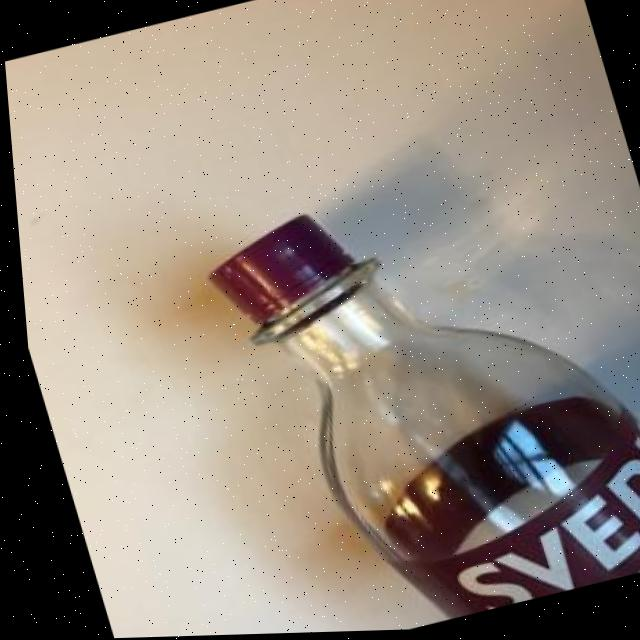glass: (177, 130, 640, 636)
